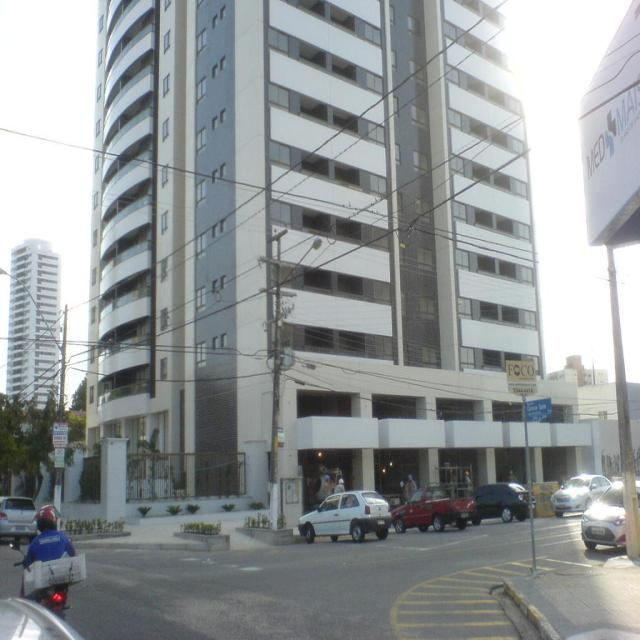car: (295, 490, 399, 547)
